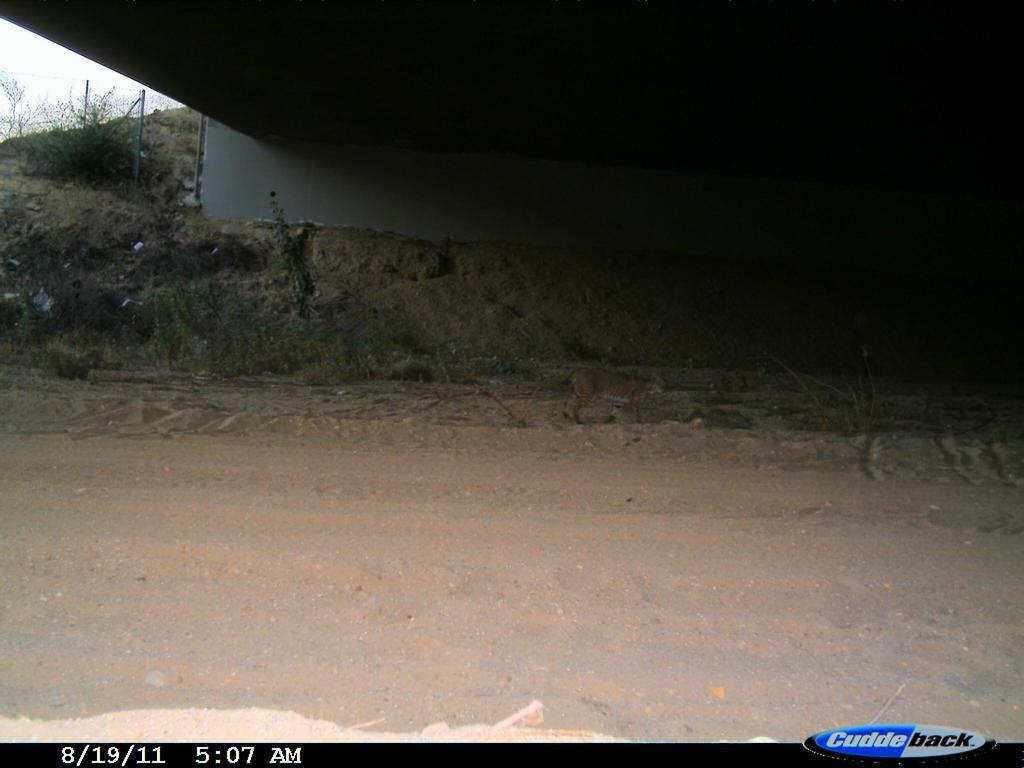bobcat: (550, 363, 673, 437)
